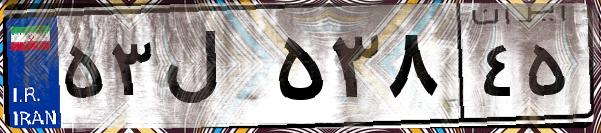3: (330, 28, 385, 110), (110, 28, 158, 98)
4: (475, 38, 525, 113)
5: (270, 28, 330, 110), (57, 26, 110, 100), (525, 38, 570, 115)
8: (385, 28, 445, 110)
ل: (158, 20, 270, 120)
